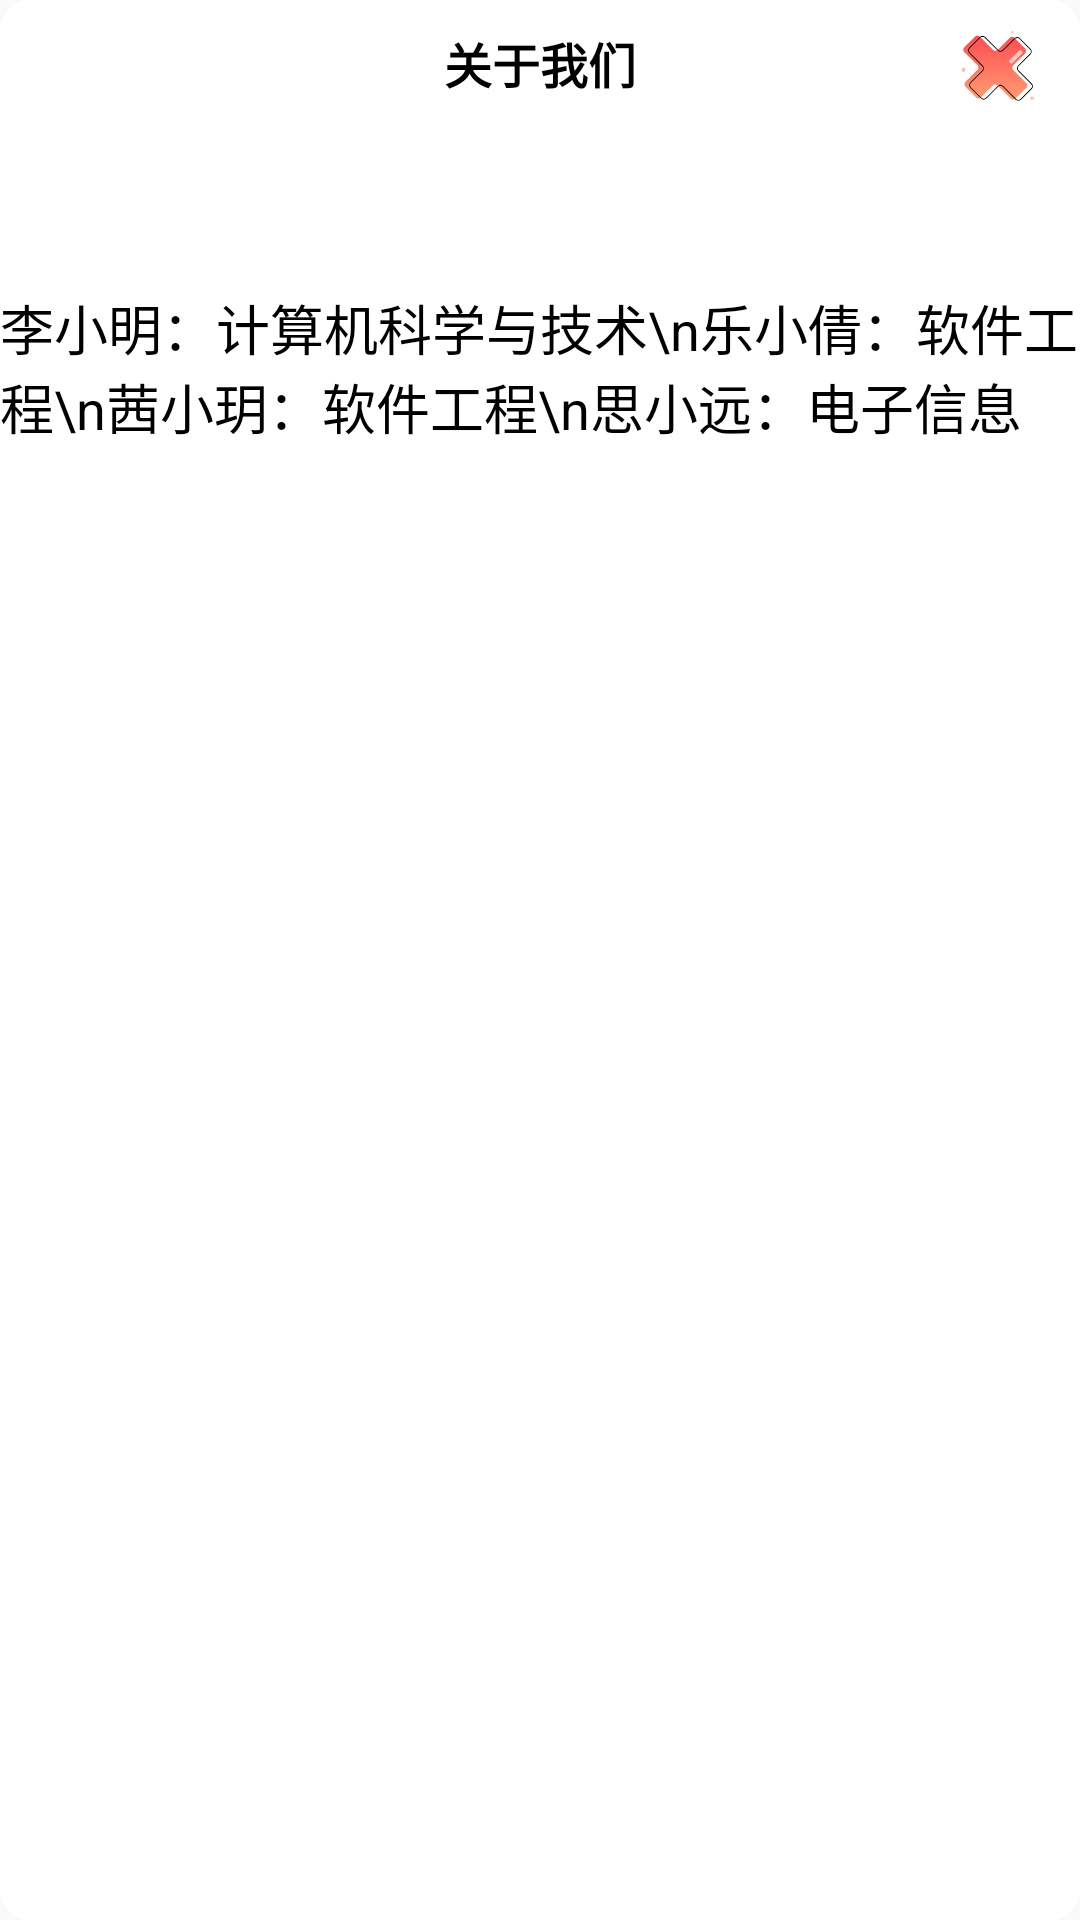

Where icons sit on this 1080 x 1920 app screen, as rect(x1, y1, x2, y2):
close: rect(962, 31, 1034, 101)
